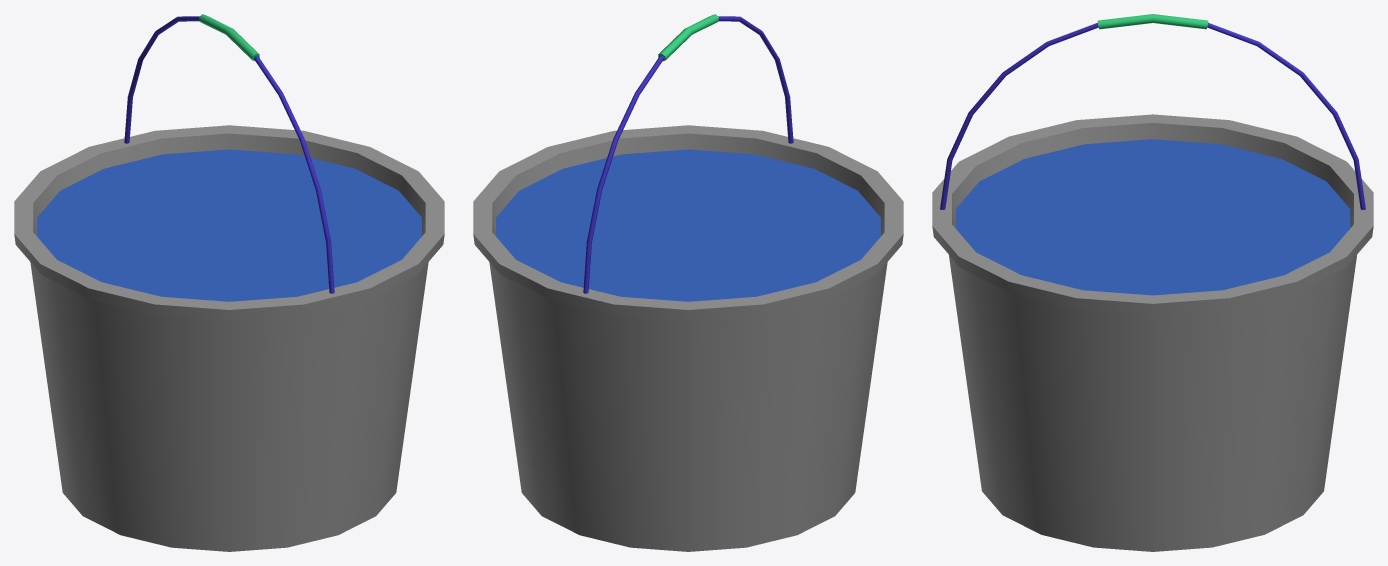
File: Cube_Milk_On.FBX
3 views of the same model, side by side, from view 1: azimuth 30°, elevation 25°; view 2: azimuth 150°, elevation 25°; view 3: azimuth 270°, elevation 25° (orthographic). The views are drawn at different scales.
Visible parts, largest first — view 1: Cubeta, Chele, SotenCubeta; view 2: Cubeta, Chele, SotenCubeta; view 3: Cubeta, Chele, SotenCubeta.
Boxes of the visible parts, bbox=[...] form: Cubeta: bbox=[14, 125, 444, 551]; Chele: bbox=[37, 149, 421, 301]; SotenCubeta: bbox=[124, 14, 334, 293]; Cubeta: bbox=[473, 125, 903, 551]; Chele: bbox=[496, 149, 880, 301]; SotenCubeta: bbox=[583, 14, 793, 293]; Cubeta: bbox=[932, 114, 1373, 551]; Chele: bbox=[955, 139, 1350, 295]; SotenCubeta: bbox=[940, 14, 1365, 209].
Bounding box in the file's own units: 61.46 × 70.35 × 60.52.
